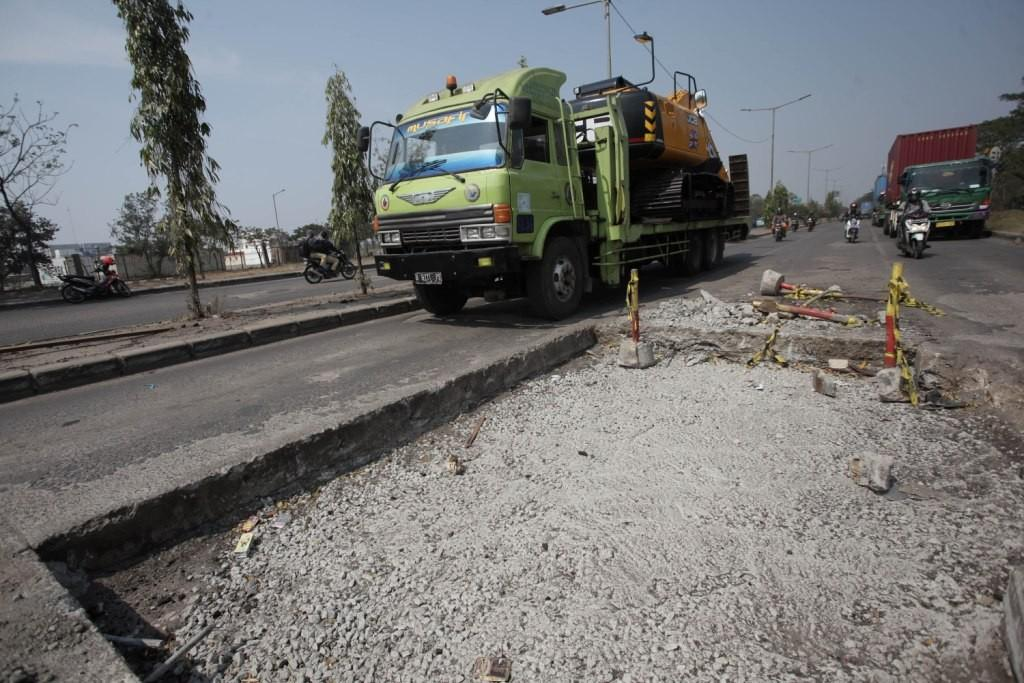Pothole: (0, 309, 1024, 683)
